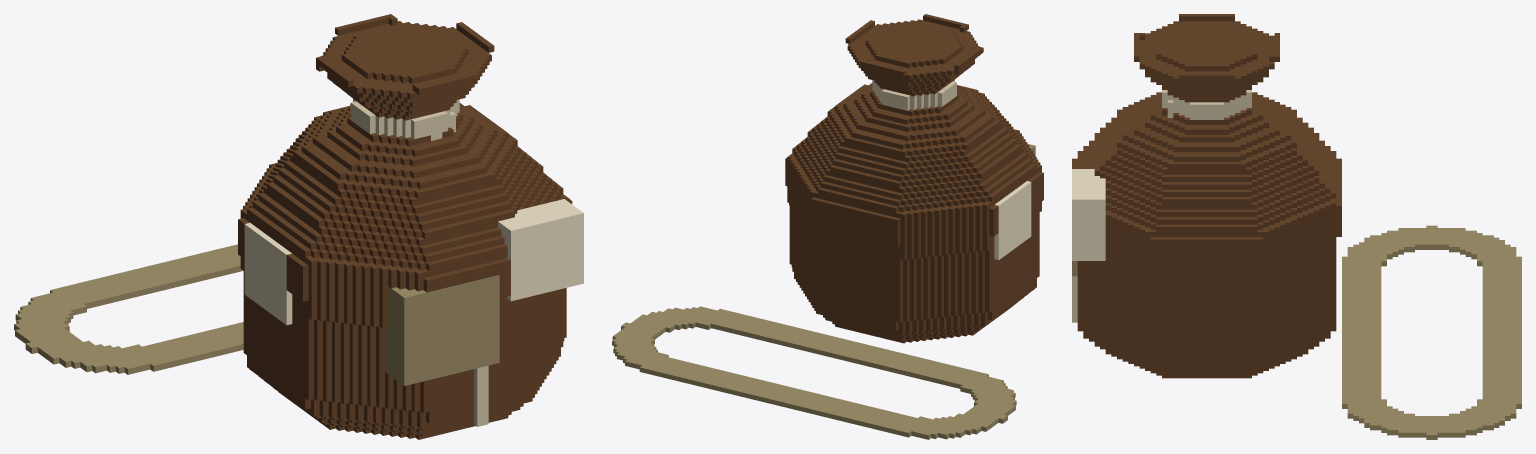
Rendered from ragpouch.glb.
3 views of the same model, side by side, from view 1: azimuth 30°, elevation 25°; view 2: azimuth 150°, elevation 25°; view 3: azimuth 270°, elevation 25° (orthographic). The views are drawn at different scales.
Parts seen in each view (by area): view 1: ragpouch:compound; view 2: ragpouch:compound; view 3: ragpouch:compound.
Part boxes in pixels (x1,y1,x2,y2): ragpouch:compound: (14,14,583,439); ragpouch:compound: (612,14,1043,439); ragpouch:compound: (1072,14,1521,439).
Bounding box in the file's own units: 0.352 × 0.228 × 0.32.
